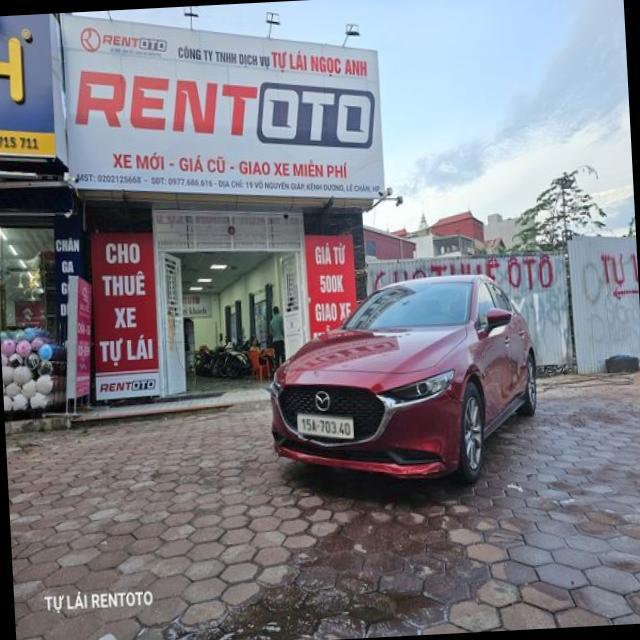car: (264, 277, 542, 490)
plate: (293, 408, 358, 444)
